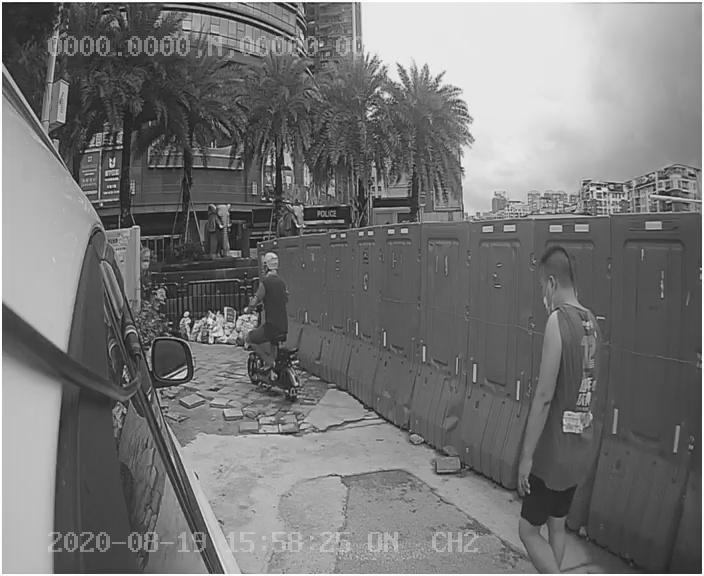person: (489, 241, 621, 559)
